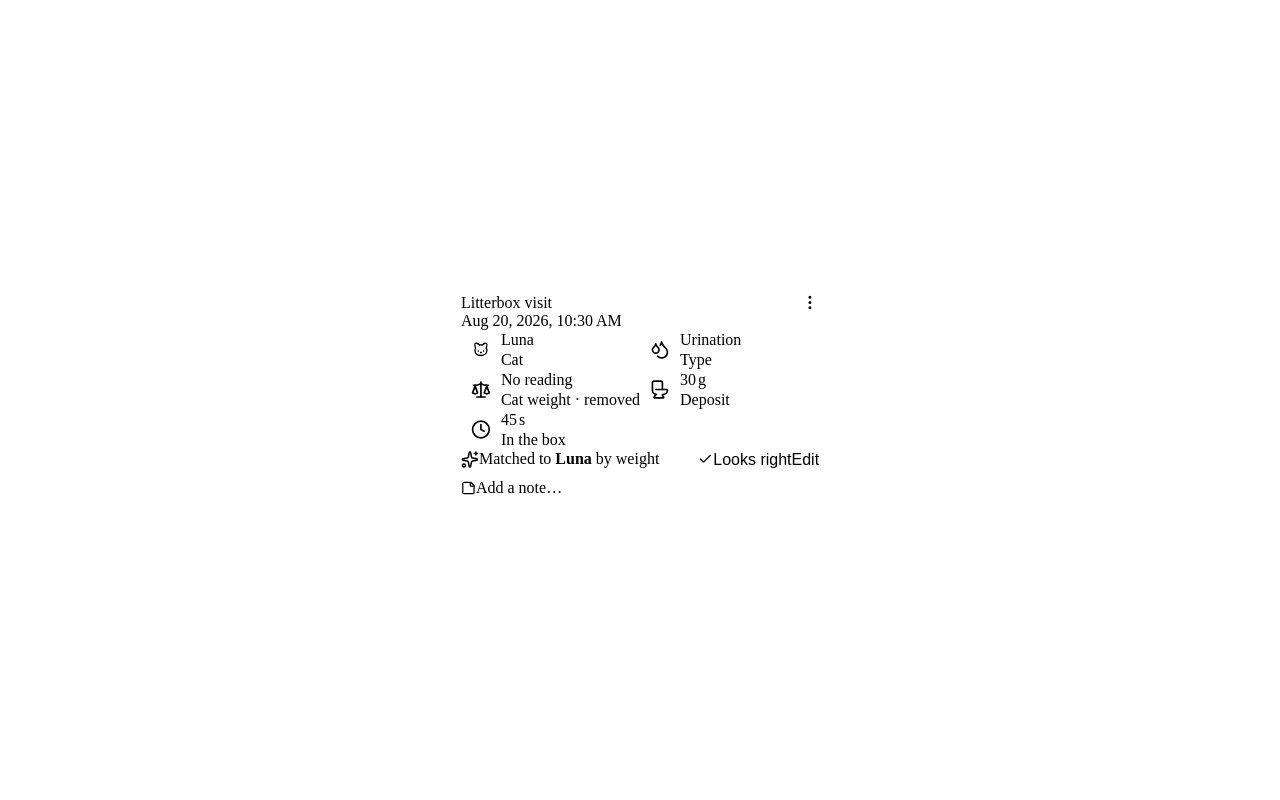
Scenario: EventDetailsModal › keeps Edit under the kebab even while the band is asking
Expected: the button "Edit" is shown, [792,450,819,468]
Click the button named "More actions": (810, 302) [801,294,819,312]
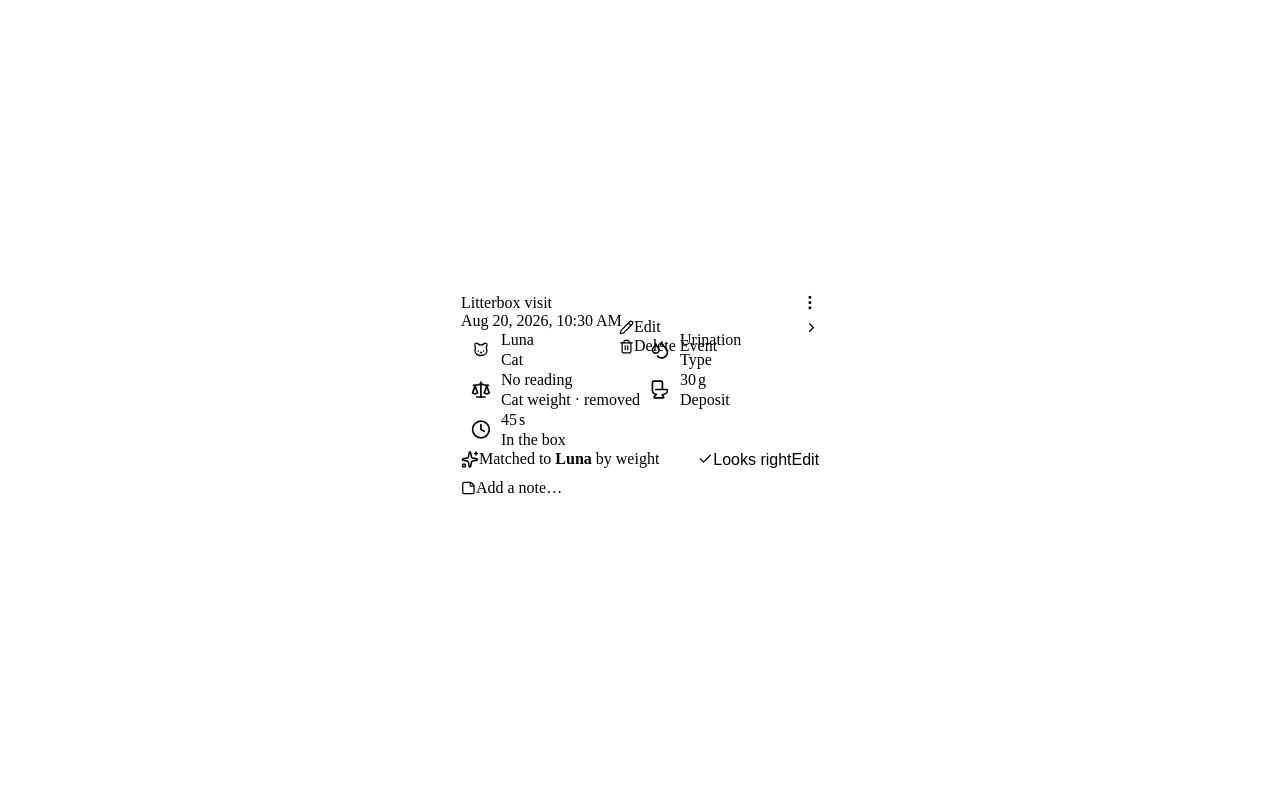
Expected: the menu item "Edit" is shown, [619,318,819,336]
